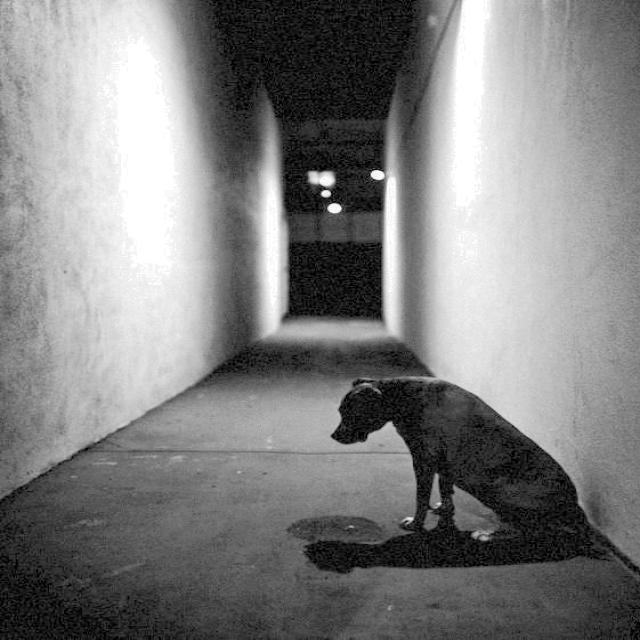Dog: (237, 329, 637, 603)
